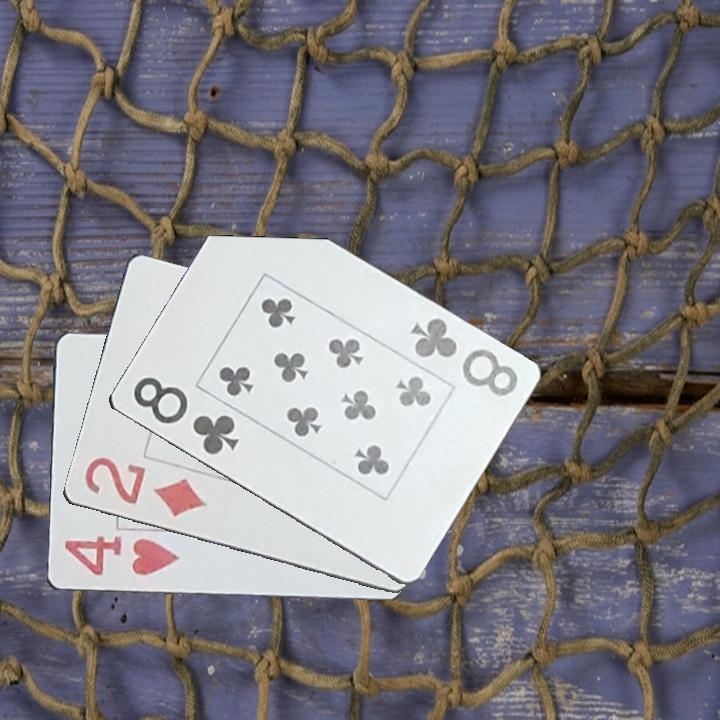2d: (79, 454, 209, 520)
4h: (60, 532, 183, 580)
8c: (406, 314, 521, 400), (128, 373, 242, 458)
